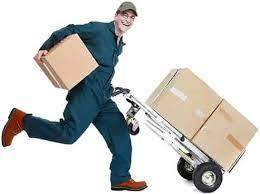Boxes: (144, 68, 227, 140), (192, 99, 260, 173), (44, 28, 104, 92)
